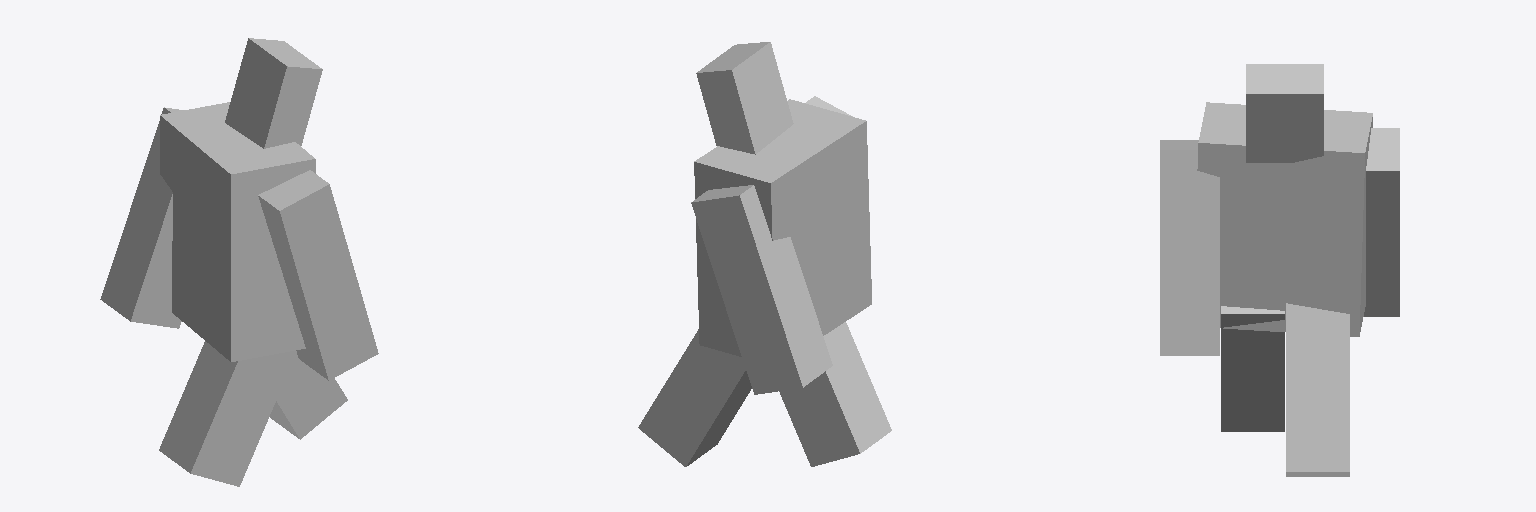
Rendered from walk_000010.obj.
The picture shows the model from 3 angles: view 1: azimuth 30°, elevation 25°; view 2: azimuth 150°, elevation 25°; view 3: azimuth 270°, elevation 25°; orthographic projection.
Visible parts, largest first — view 1: Cube, leg.002_Cube.006, leg.001_Cube.007, leg.003_Cube.002, Cube.001_Cube.003, leg_Cube.001; view 2: Cube, leg.003_Cube.002, leg.001_Cube.007, leg_Cube.001, Cube.001_Cube.003; view 3: Cube, leg.002_Cube.006, leg_Cube.001, leg.001_Cube.007, leg.003_Cube.002, Cube.001_Cube.003, Plane.002.
Part boxes in pixels (x1,y1,x2,y2): Cube: (160,102,315,361); leg.002_Cube.006: (258,170,378,380); leg.001_Cube.007: (159,341,296,486); leg.003_Cube.002: (100,107,183,328); Cube.001_Cube.003: (225,38,322,148); leg_Cube.001: (270,353,347,439); Cube: (694,99,871,356); leg.003_Cube.002: (691,185,832,394); leg.001_Cube.007: (779,322,891,466); leg_Cube.001: (638,329,751,466); Cube.001_Cube.003: (696,42,793,154); Cube: (1197,102,1372,336); leg.002_Cube.006: (1160,140,1219,355); leg_Cube.001: (1286,303,1349,476); leg.001_Cube.007: (1221,306,1284,431); leg.003_Cube.002: (1364,128,1399,316); Cube.001_Cube.003: (1246,64,1323,162); Plane.002: (1260,133,1309,156).
Bounding box in the file's own units: 3.17 × 6.3 × 3.47.